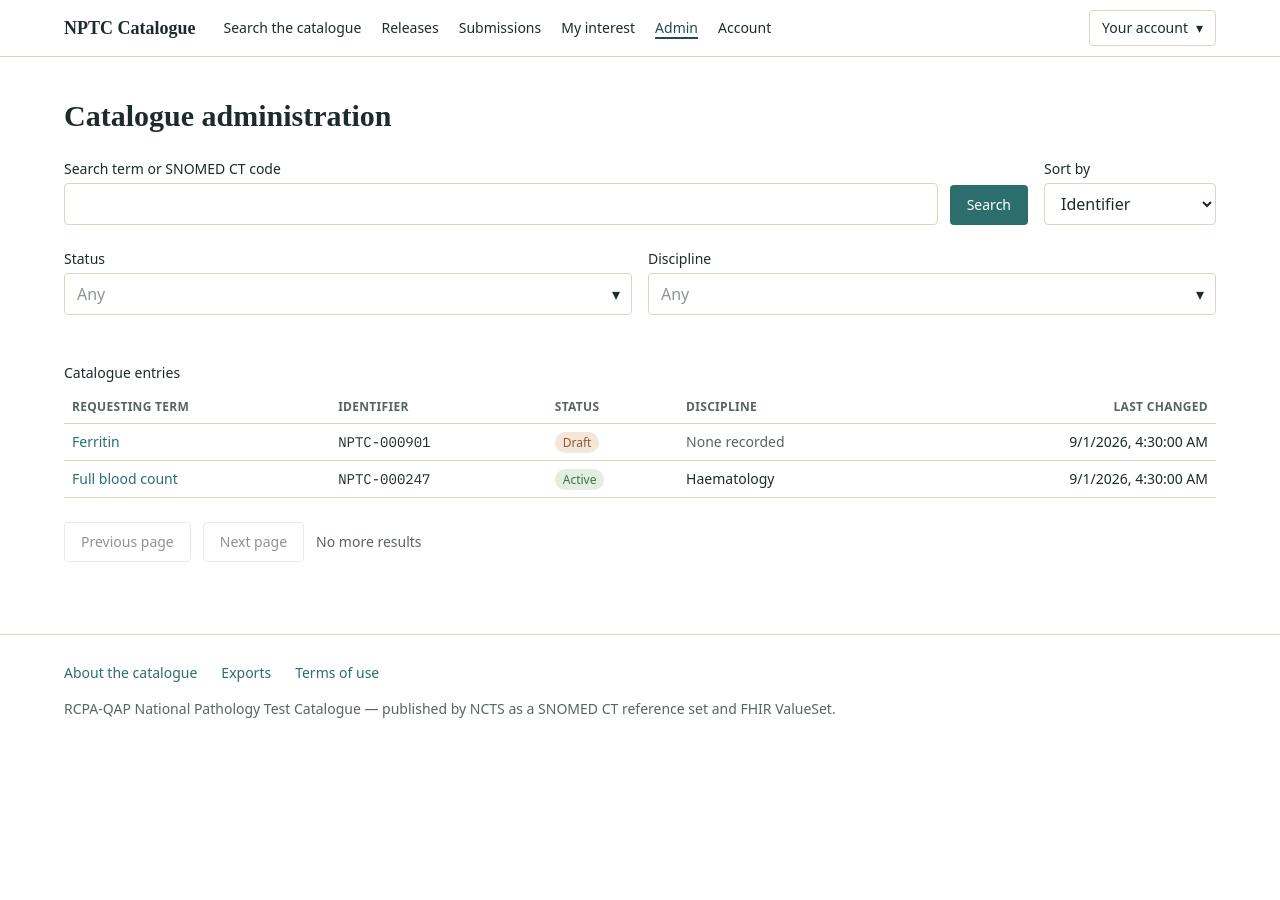
AdminCatalogueListPage › filter comboboxes › lists registry values with no counts, as admin browse has none
Check: the link "Ferritin" is shown, box [72,432,120,452]
Click the dropdown labelled "Discipline" at (932, 294), box [648,272,1216,314]
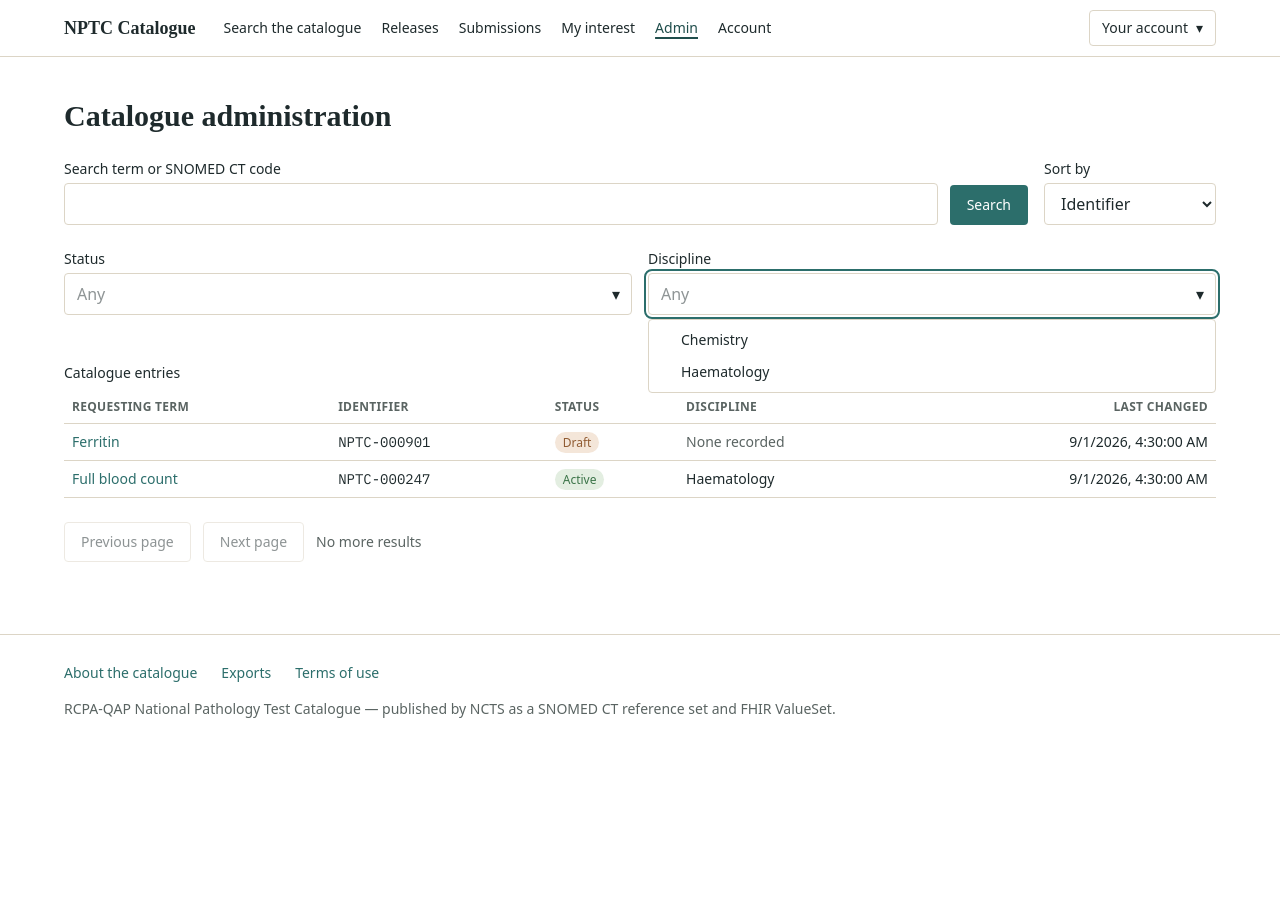
Check: the options read "Chemistry", "Haematology", in this order, box [681,330,748,349]; [681,362,769,381]
